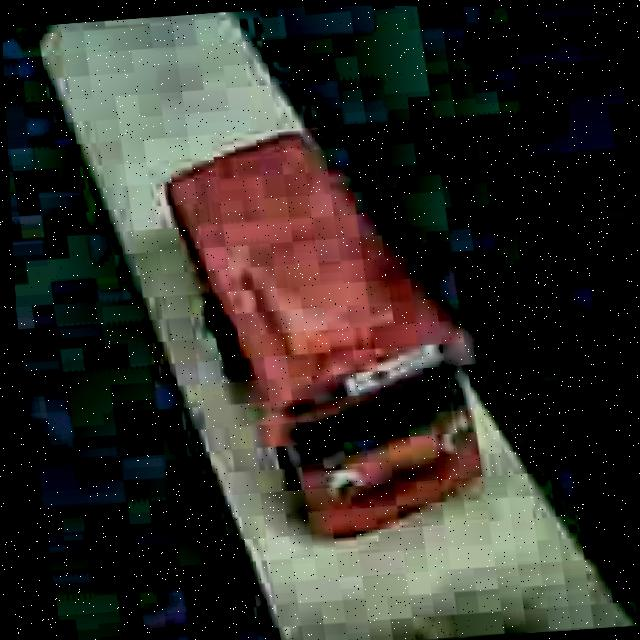bus: (151, 115, 495, 554)
